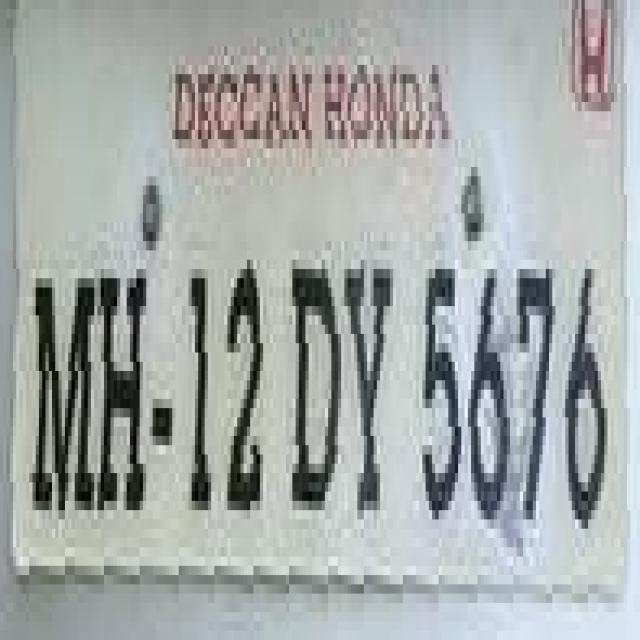license_plate: (0, 167, 634, 603)
